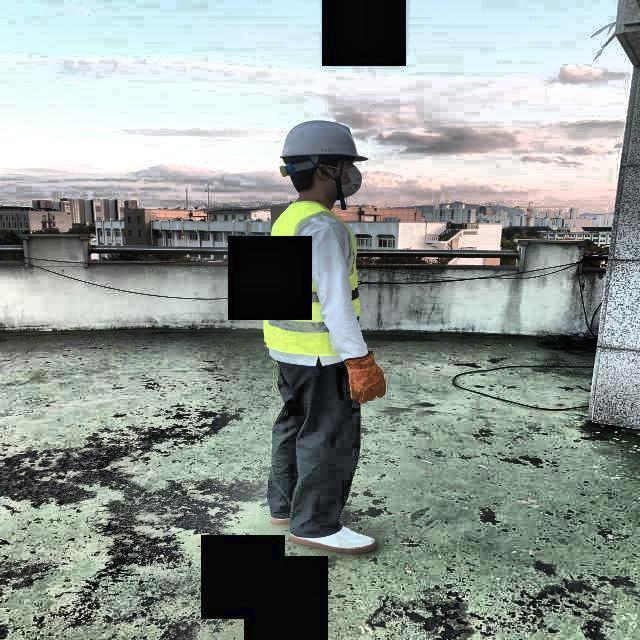safety_helmet: (280, 120, 370, 162)
safety_jacket: (263, 201, 361, 357)
